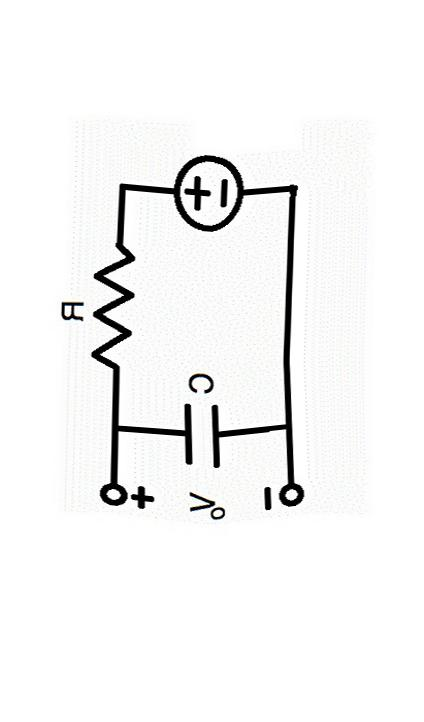Battery: (150, 125, 254, 252)
